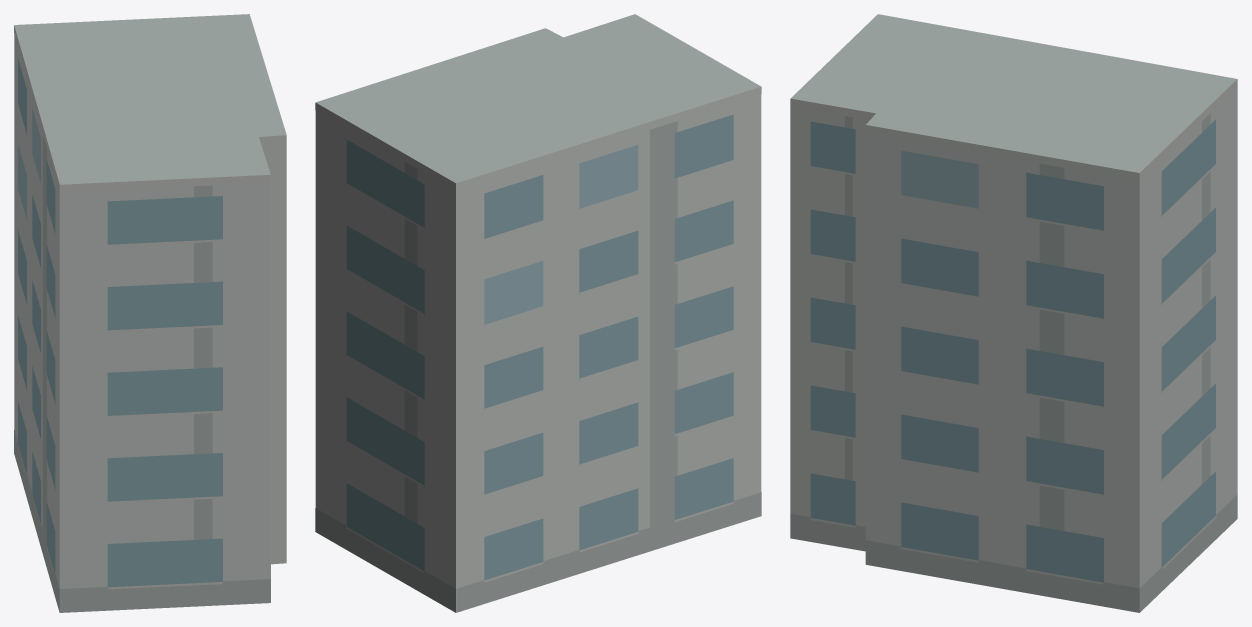
The model's file is survey-upis-32728747.glb.
3 views of the same model, side by side, from view 1: azimuth 30°, elevation 25°; view 2: azimuth 150°, elevation 25°; view 3: azimuth 270°, elevation 25° (orthographic). The views are drawn at different scales.
Visible parts, largest first — view 1: survey-upis-32728747.tmp; view 2: survey-upis-32728747.tmp; view 3: survey-upis-32728747.tmp.
Part boxes in pixels (left/top/right/bottom): survey-upis-32728747.tmp: left=14, top=14, right=286, bottom=612; survey-upis-32728747.tmp: left=315, top=14, right=761, bottom=612; survey-upis-32728747.tmp: left=790, top=14, right=1237, bottom=612.
Bounding box in the file's own units: 10.28 × 13.25 × 12.22.
